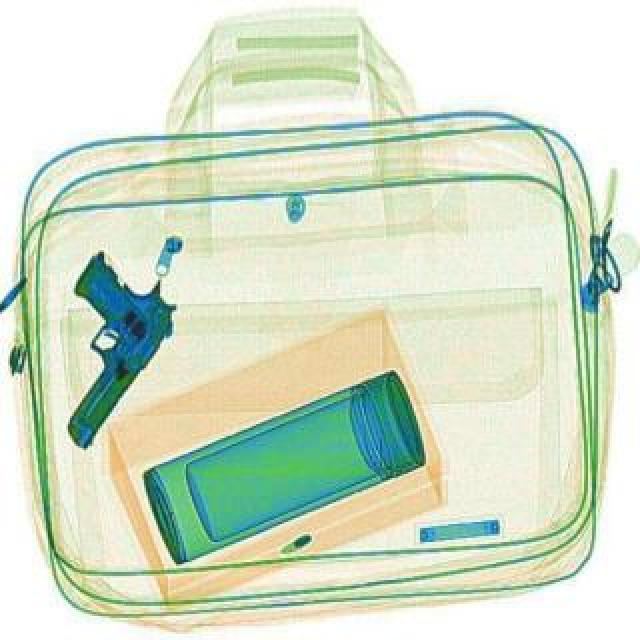gun: (0, 244, 188, 436)
